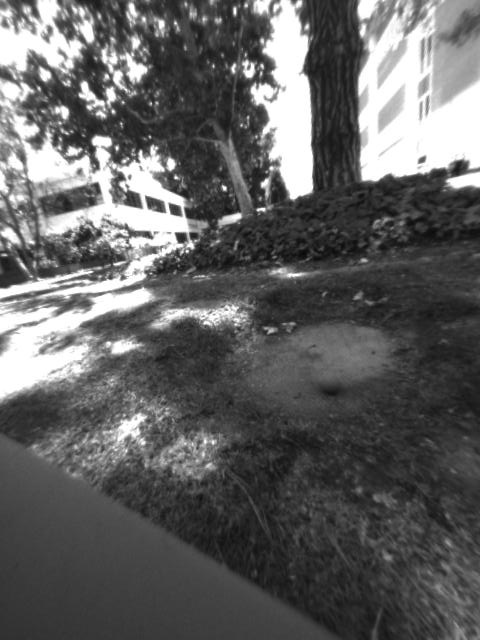dogtoy: (303, 361, 358, 409)
